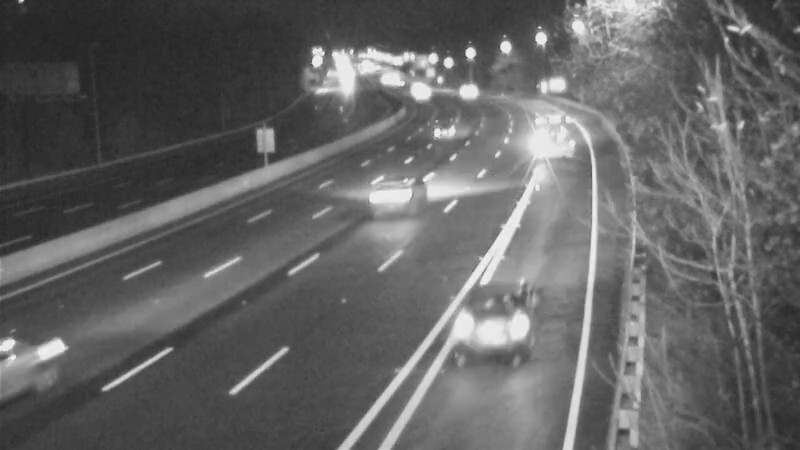vehicle: (438, 260, 548, 370), (351, 155, 431, 235), (444, 64, 494, 114), (395, 71, 445, 121), (418, 100, 468, 150), (529, 111, 579, 161)
